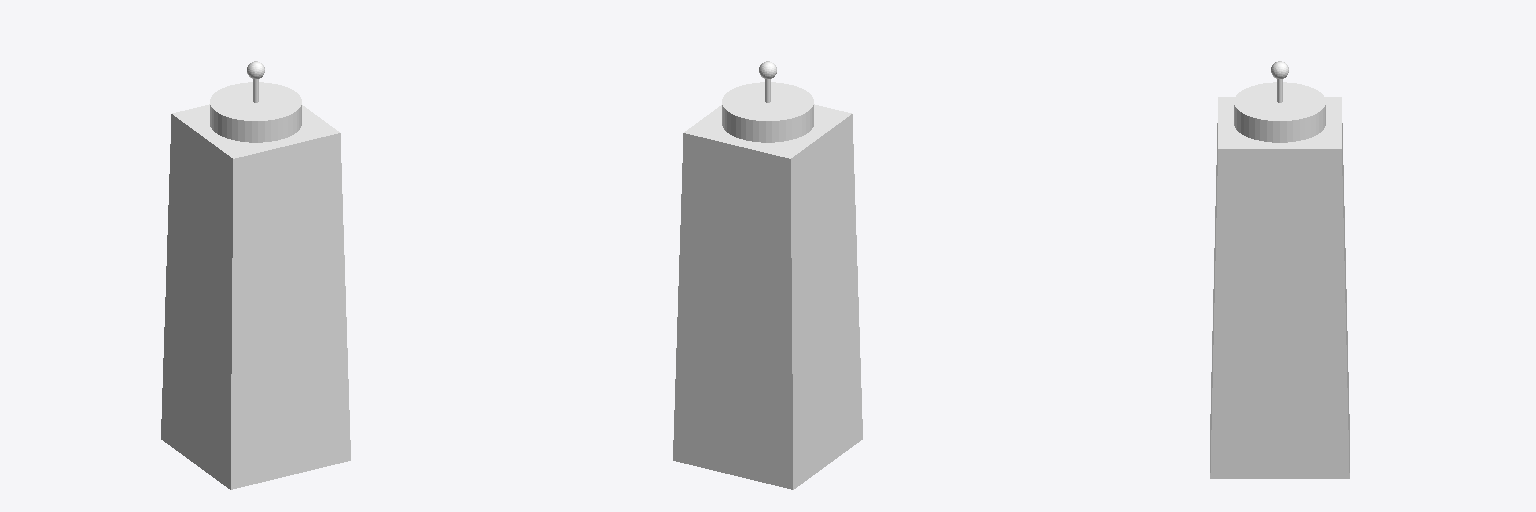
Rendered from shar.obj.
3 renders of one model, left to right at view 1: azimuth 30°, elevation 25°; view 2: azimuth 150°, elevation 25°; view 3: azimuth 270°, elevation 25°, orthographic.
Visible parts, largest first — view 1: Box001; view 2: Box001; view 3: Box001.
Part boxes in pixels (x1,y1,x2,y2): Box001: (161,61,350,489); Box001: (673,61,862,489); Box001: (1210,61,1349,478).
Size of the model in its own units: 40.29 by 124 by 40.29.